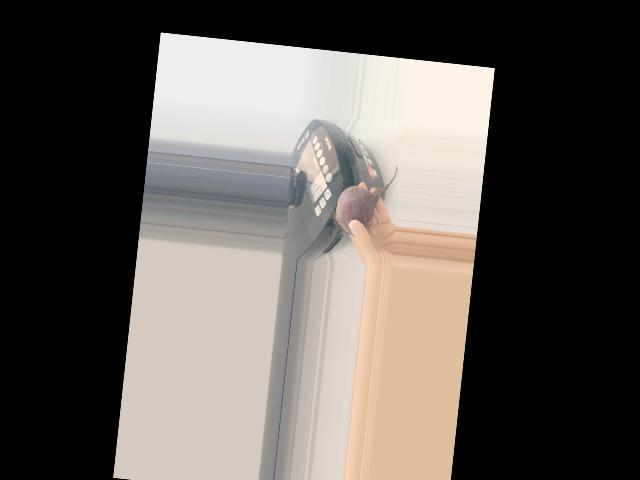beet: (331, 159, 397, 238)
